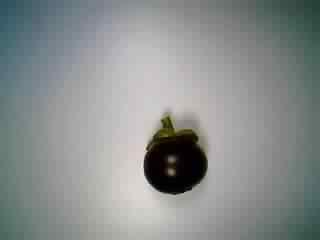mangosteen: (138, 113, 215, 197)
